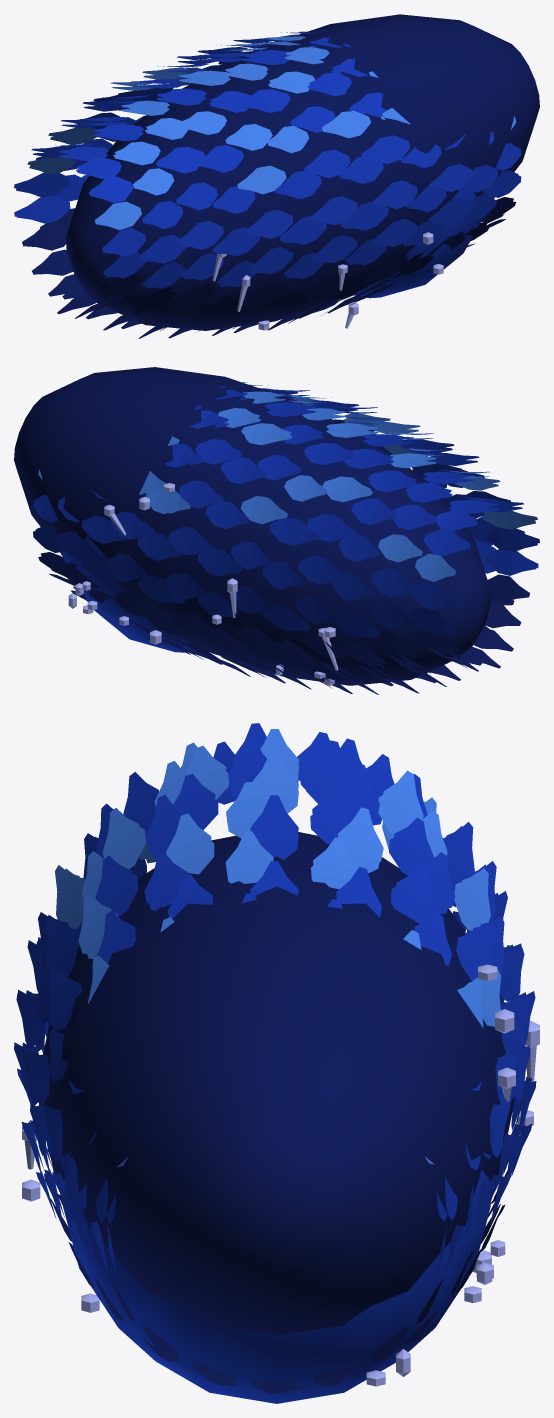
The model's file is sb_body.glb.
3 renders of one model, top to bottom at view 1: azimuth 30°, elevation 25°; view 2: azimuth 150°, elevation 25°; view 3: azimuth 270°, elevation 25°, orthographic. The views are drawn at different scales.
Visible parts, largest first — view 1: teil0, teil2, teil4, teil3, teil1, teil5; view 2: teil0, teil2, teil3, teil4, teil1, teil5; view 3: teil0, teil2, teil4, teil1, teil3, teil5.
Part boxes in pixels (x1=…): teil0: x1=65, y1=14, x2=539, y2=330; teil2: x1=14, y1=30, x2=521, y2=288; teil4: x1=27, y1=31, x2=516, y2=229; teil3: x1=22, y1=197, x2=516, y2=338; teil1: x1=354, y1=190, x2=483, y2=298; teil5: x1=212, y1=232, x2=443, y2=330; teil0: x1=14, y1=367, x2=491, y2=685; teil2: x1=33, y1=384, x2=539, y2=637; teil3: x1=38, y1=552, x2=529, y2=694; teil4: x1=38, y1=382, x2=537, y2=581; teil1: x1=60, y1=535, x2=195, y2=652; teil5: x1=68, y1=483, x2=338, y2=686; teil0: x1=39, y1=832, x2=514, y2=1334; teil2: x1=14, y1=723, x2=536, y2=1274; teil4: x1=55, y1=729, x2=501, y2=1167; teil1: x1=63, y1=1169, x2=490, y2=1403; teil3: x1=47, y1=1149, x2=507, y2=1393; teil5: x1=22, y1=964, x2=539, y2=1386.
Bounding box in the file's own units: 0.2769 × 0.1482 × 0.1487.
